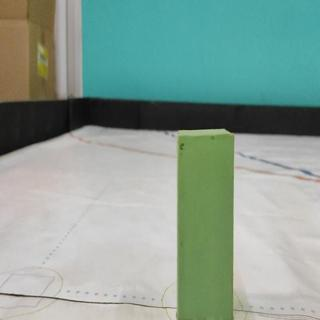greenbox: (175, 129, 236, 320)
